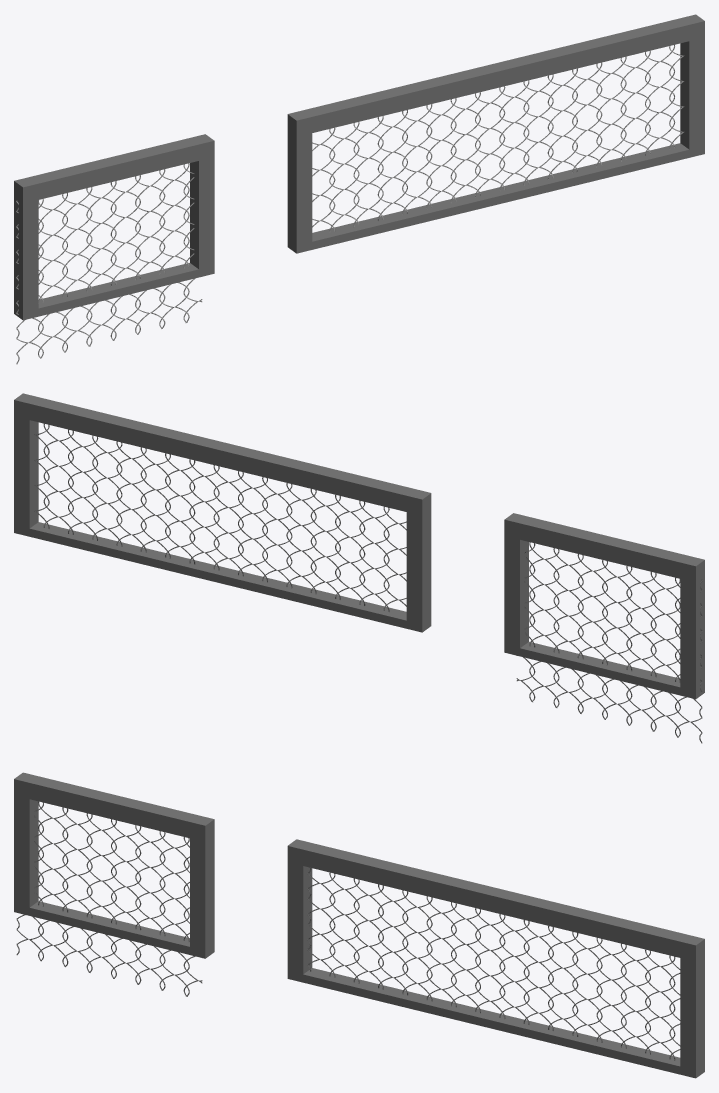
Rendered from IronFence.fbx.
3 views of the same model, one above another, from view 1: azimuth 30°, elevation 25°; view 2: azimuth 150°, elevation 25°; view 3: azimuth 330°, elevation 25° (orthographic).
Parts seen in each view (by area): view 1: Cube.001; view 2: Cube.001; view 3: Cube.001.
Part boxes in pixels (box(x1,y1,x2,y2)): Cube.001: box(14, 14, 704, 364); Cube.001: box(14, 393, 704, 743); Cube.001: box(14, 772, 704, 1078).
Size of the model in its own units: 1750 by 440 by 40.
